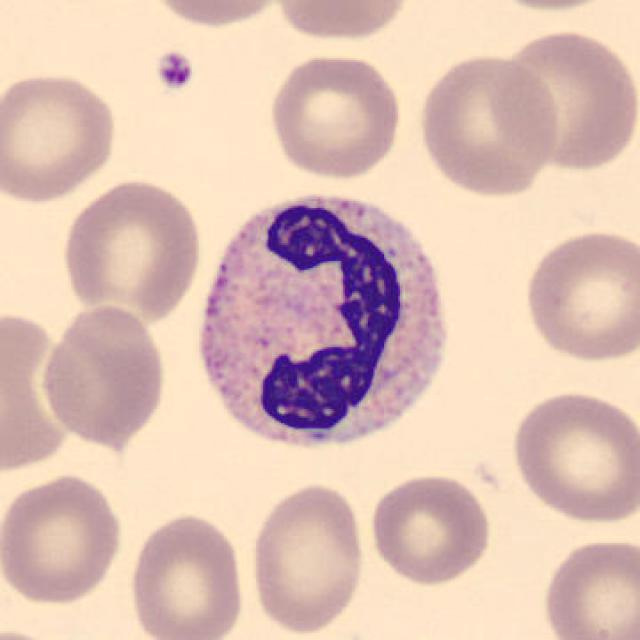Neutrophil: (183, 176, 462, 469)
Platelets: (151, 48, 197, 95)
RBC: (57, 175, 206, 326), (414, 49, 562, 200), (492, 24, 638, 174), (37, 300, 171, 450), (247, 479, 368, 636), (507, 386, 638, 527), (265, 51, 405, 182), (0, 469, 126, 608), (0, 67, 123, 206), (519, 224, 638, 367), (124, 509, 248, 640), (366, 469, 494, 589), (0, 305, 76, 479), (537, 534, 638, 640), (272, 0, 418, 44), (140, 0, 294, 30), (473, 0, 627, 14), (0, 626, 80, 640)
